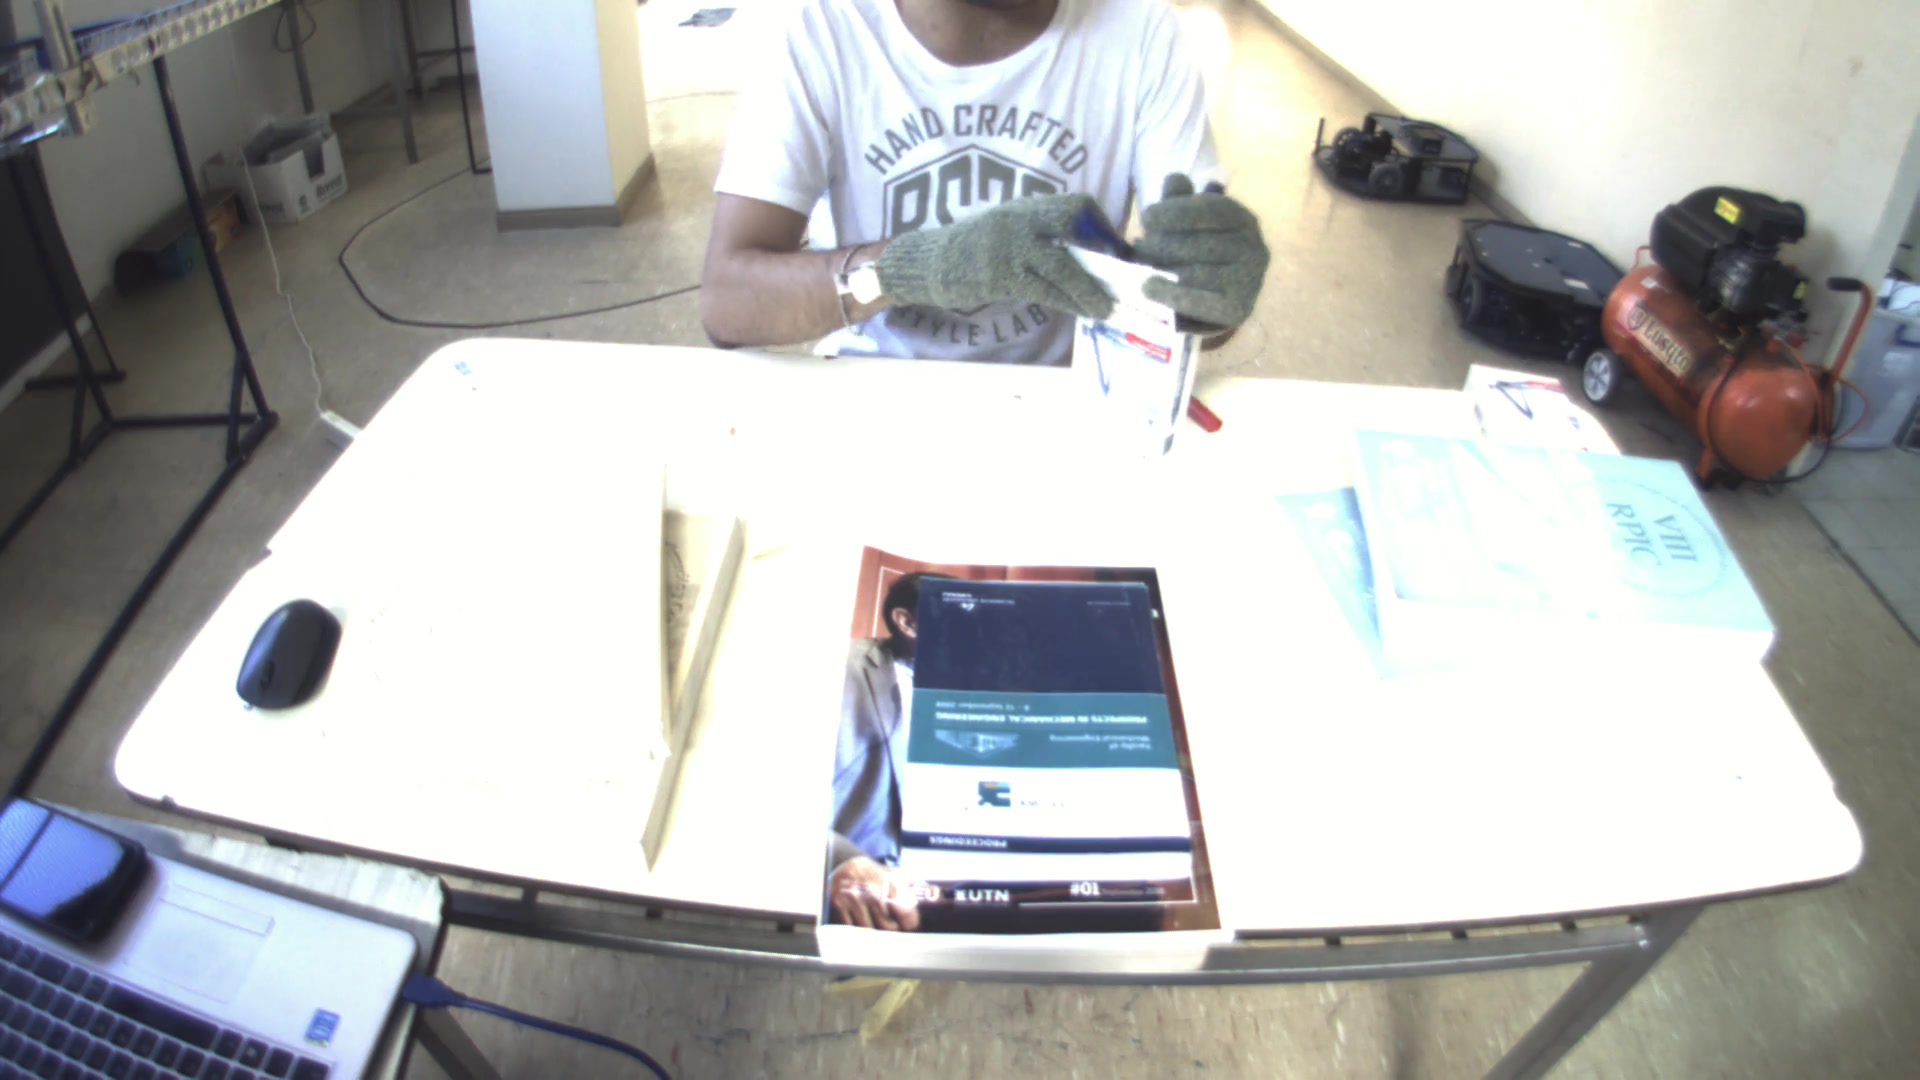hand: (861, 190, 1127, 320), (1125, 177, 1284, 338)
